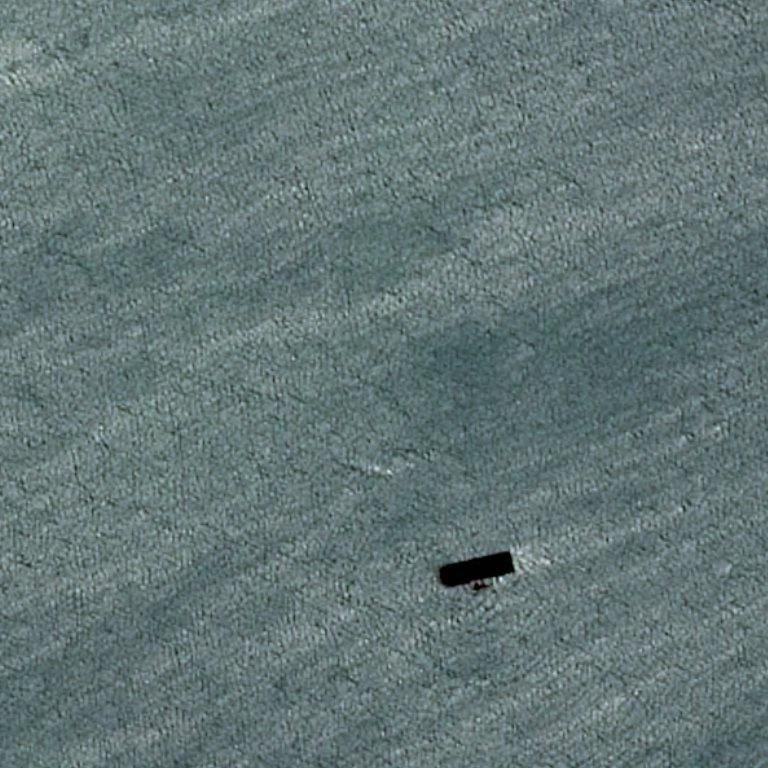ship: (467, 546, 470, 590), (439, 576, 442, 580), (507, 550, 510, 554), (511, 569, 515, 572)
